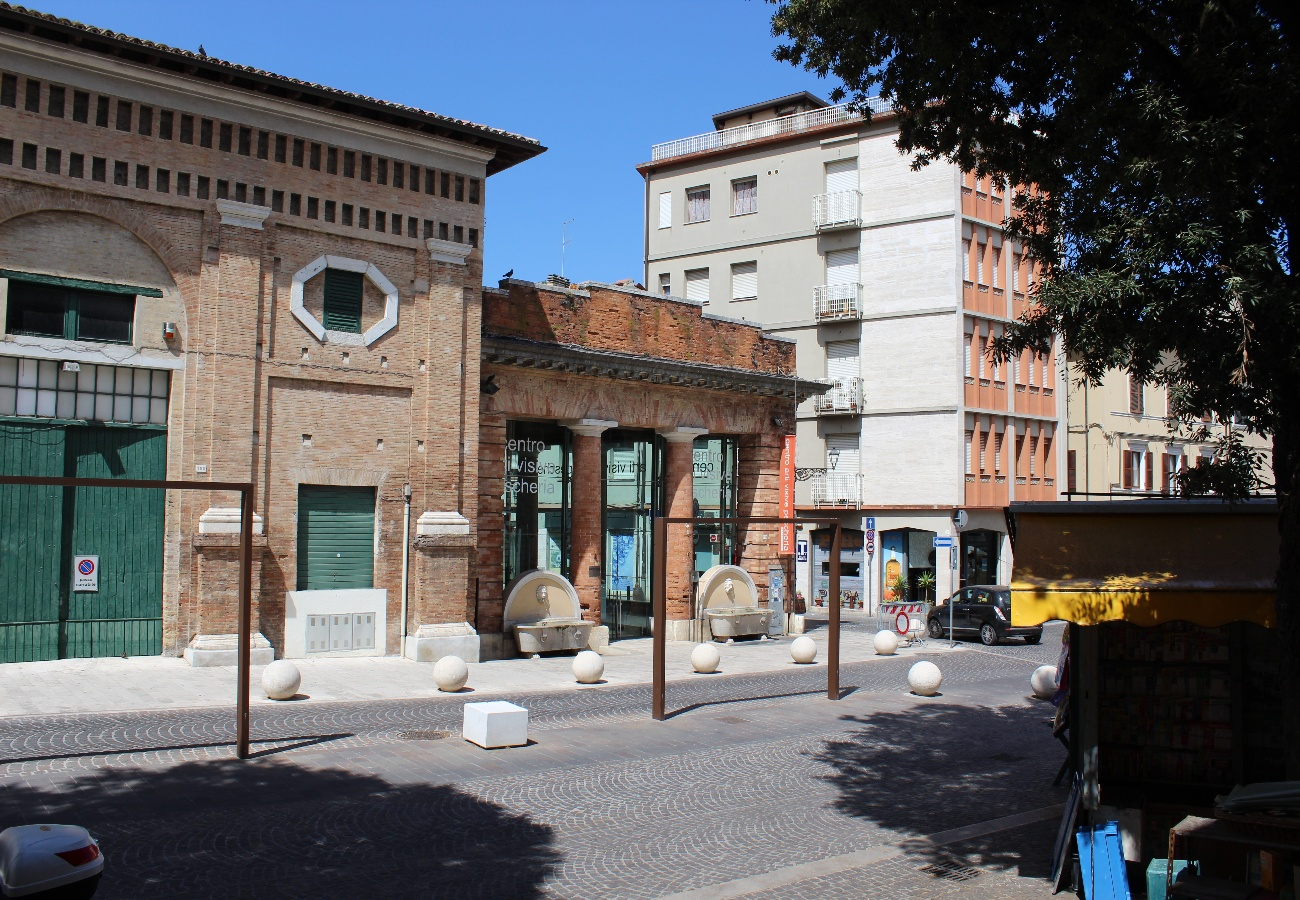Centro Arti Visive Pescheria: (465, 276, 800, 652)
